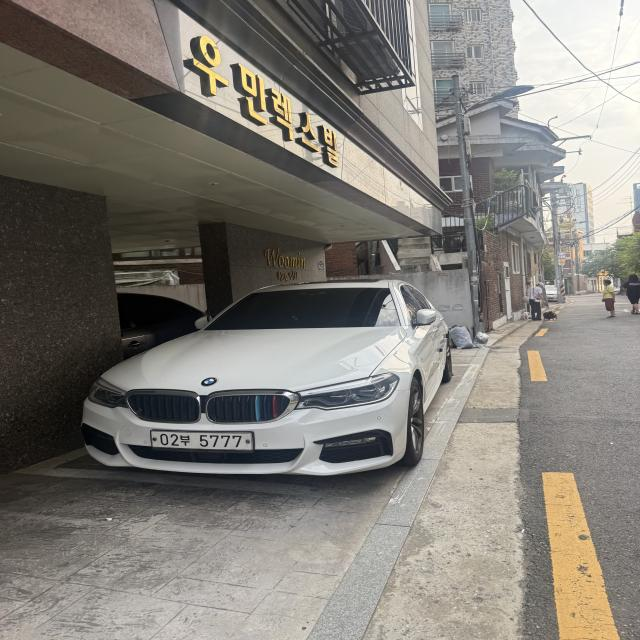car: (61, 264, 469, 508)
